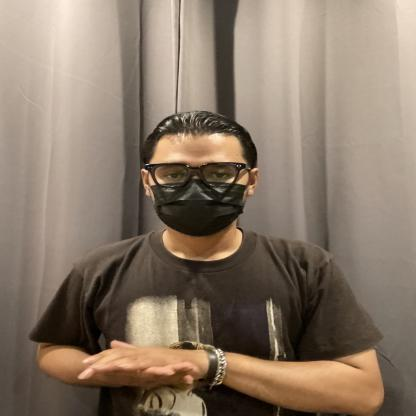Love: (27, 312, 308, 414)
